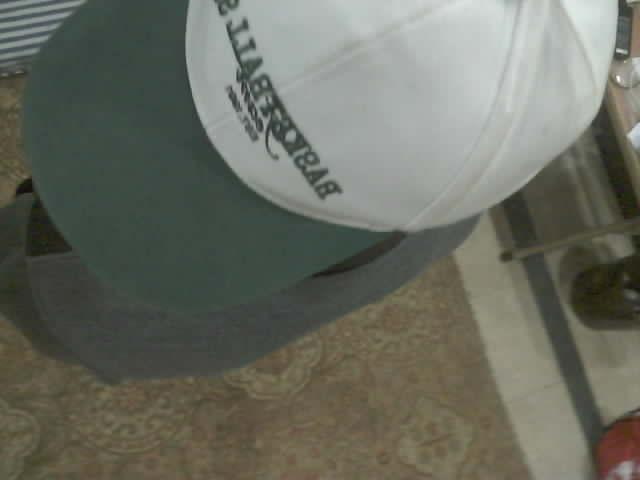cap: (23, 0, 616, 327)
